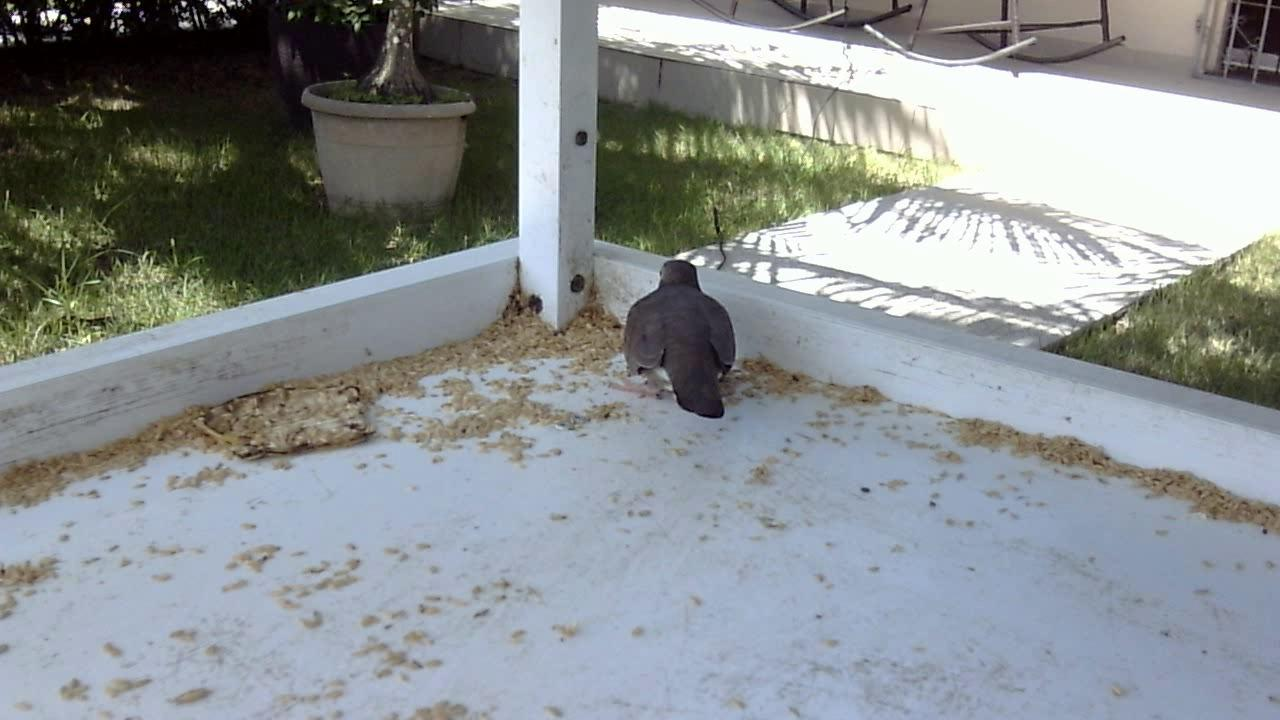rolinha: (611, 256, 747, 419)
